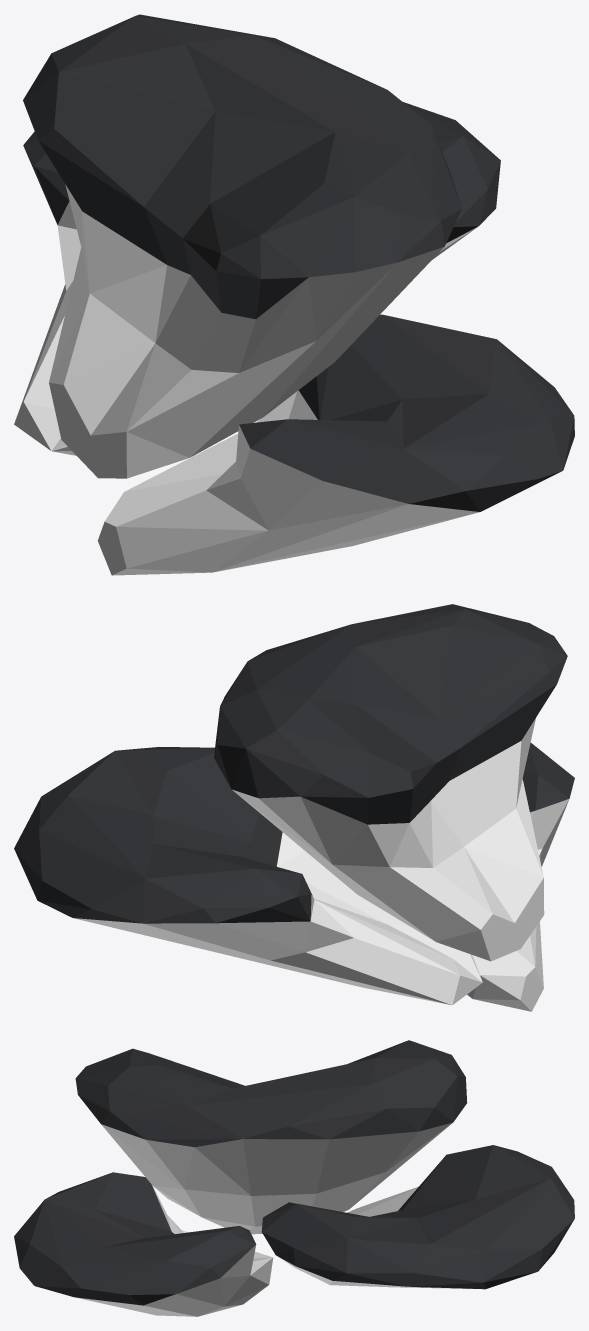
The model's file is oyster_mushroom.fbx.
3 views of the same model, one above another, from view 1: azimuth 30°, elevation 25°; view 2: azimuth 150°, elevation 25°; view 3: azimuth 270°, elevation 25° (orthographic). The views are drawn at different scales.
Visible parts, largest first — view 1: oyster_mushroom; view 2: oyster_mushroom; view 3: oyster_mushroom.
Boxes of the visible parts, x1,y1,x2,y2 form: oyster_mushroom: (14,14,574,575); oyster_mushroom: (14,604,574,1011); oyster_mushroom: (14,1040,574,1316).
Size of the model in its own units: 35.97 by 29.95 by 54.07.
Materials: 1 (1 with a texture image).
